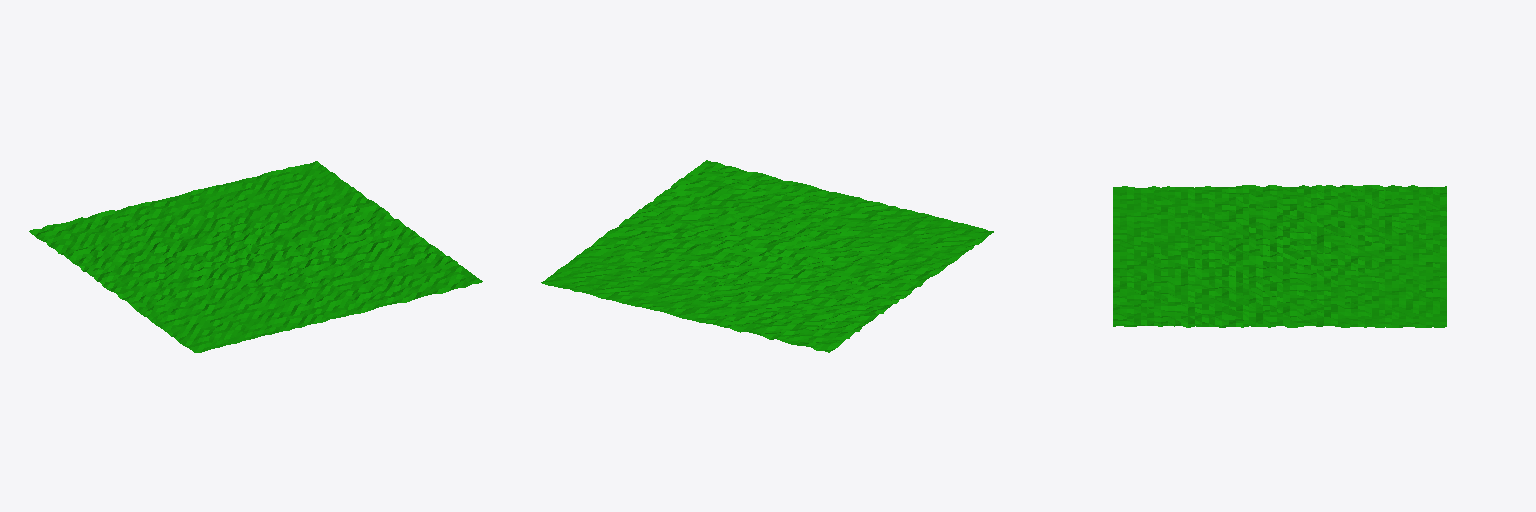
Rendered from terrain2.obj.
3 renders of one model, left to right at view 1: azimuth 30°, elevation 25°; view 2: azimuth 150°, elevation 25°; view 3: azimuth 270°, elevation 25°, orthographic.
Visible parts, largest first — view 1: Grid_Grid.001; view 2: Grid_Grid.001; view 3: Grid_Grid.001.
Part boxes in pixels (x1,y1,x2,y2): Grid_Grid.001: (29, 161, 482, 352); Grid_Grid.001: (541, 160, 993, 352); Grid_Grid.001: (1113, 185, 1446, 327).
Bounding box in the file's own units: 15.96 × 0.2295 × 15.96.